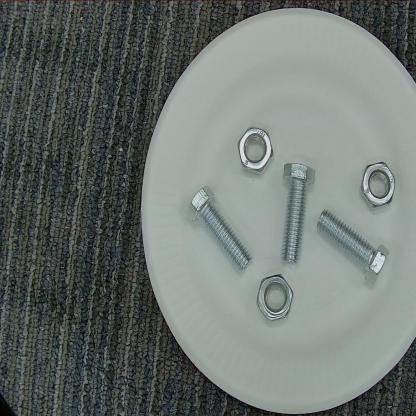FOD: (310, 206, 396, 293), (181, 183, 255, 282), (281, 158, 317, 271), (232, 122, 278, 184), (252, 270, 298, 330), (356, 157, 401, 215)
